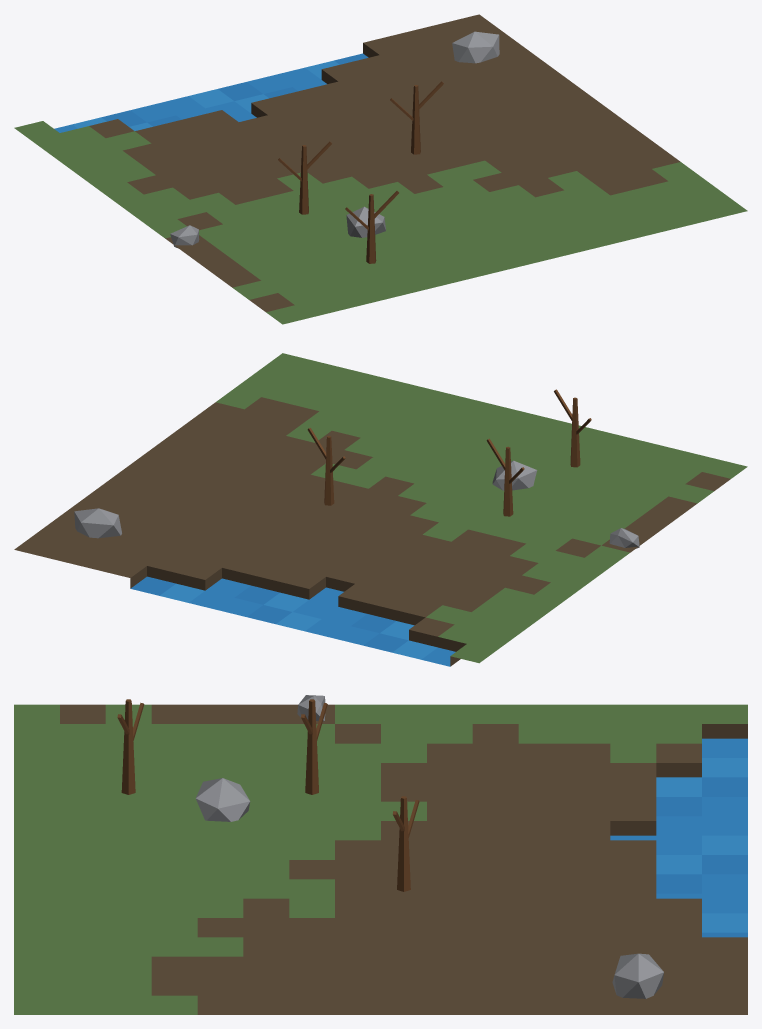
The model's file is chunk_1_15.glb.
3 views of the same model, one above another, from view 1: azimuth 30°, elevation 25°; view 2: azimuth 150°, elevation 25°; view 3: azimuth 270°, elevation 25° (orthographic). The views are drawn at different scales.
Parts seen in each view (by area): view 1: chunk_1_15; view 2: chunk_1_15; view 3: chunk_1_15.
Part boxes in pixels (bbox=[...]): chunk_1_15: bbox=[14, 14, 747, 324]; chunk_1_15: bbox=[14, 353, 747, 666]; chunk_1_15: bbox=[14, 695, 747, 1014].
Bounding box in the file's own units: 16 × 2.73 × 16.
